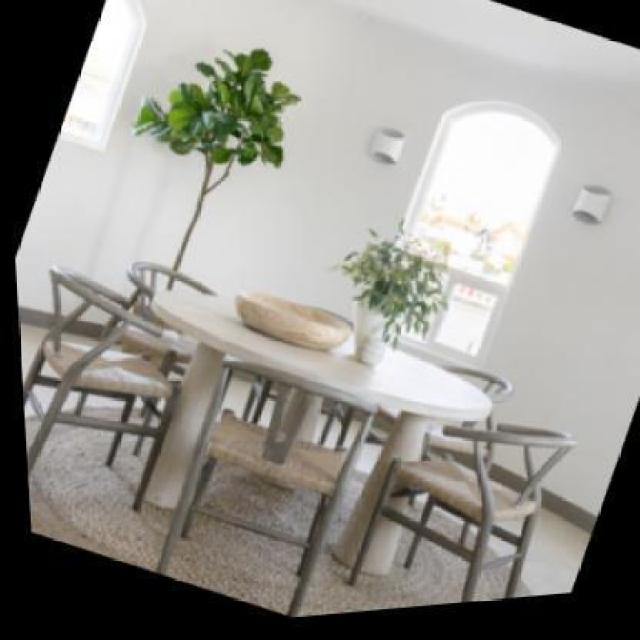tables: (144, 288, 493, 614)
